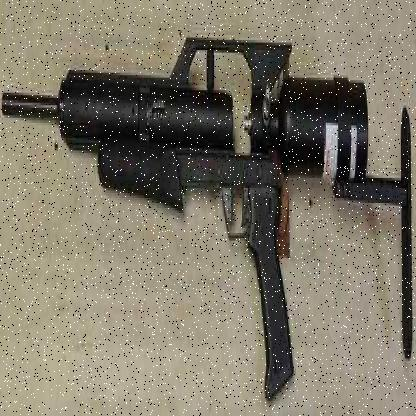rifle: (59, 25, 416, 409)
